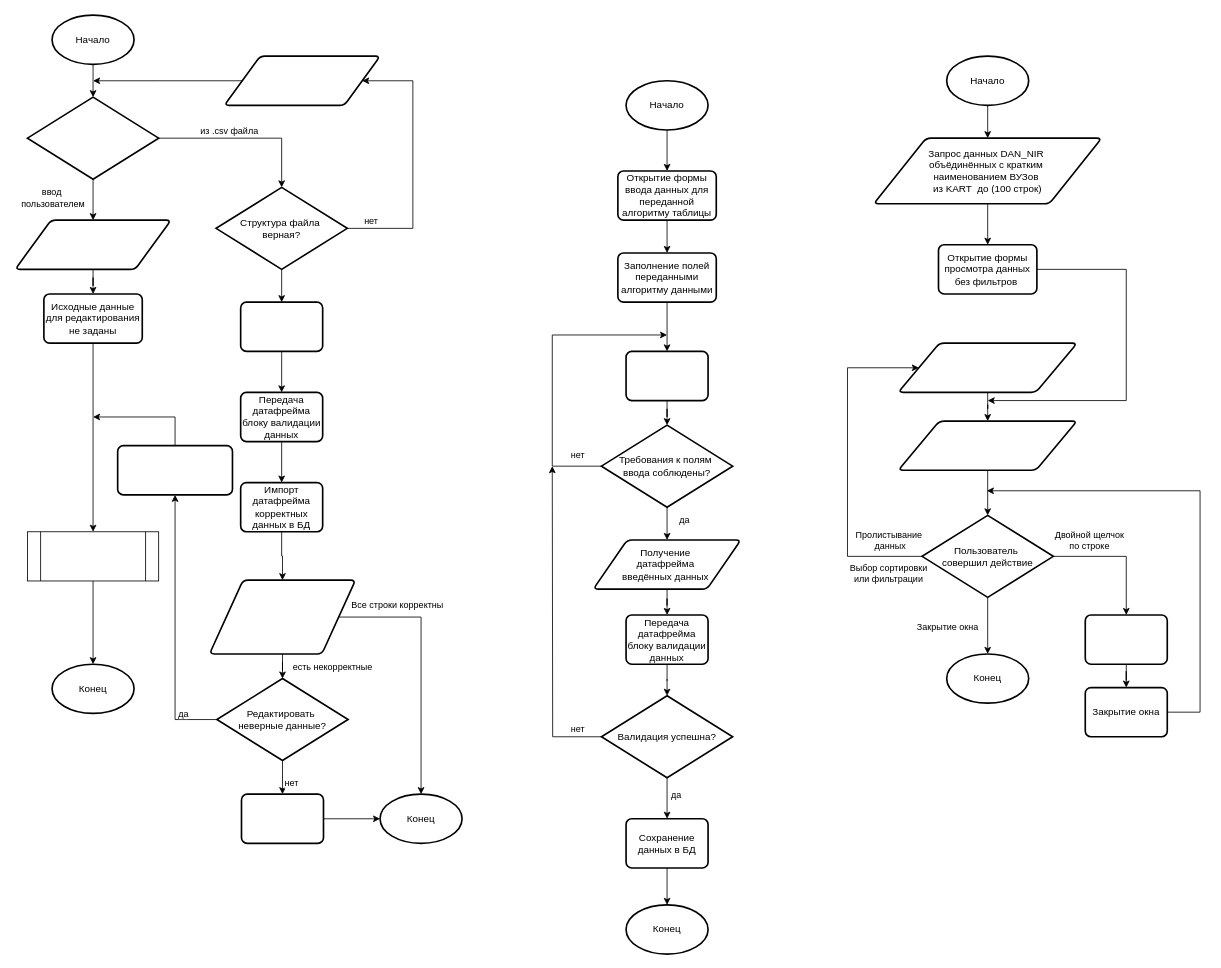
The diagram is 1221 pixels wide and 968 high, and some of its shapes have lost their labels. The shapes that lost their labels are listed below. From the top down, each one's centre as x and y in pixels, then its label:
(x=301, y=80): Таблица не соответствует формату из инструкций
(x=92, y=138): Какой способ импортирования данных?
(x=92, y=244): Выбор таблицы DAN_NIR или KART
(x=281, y=326): Формирование датафрейма
(x=666, y=375): Нажатие "сохранить"
(x=987, y=367): Получение нового массива данных с учётом фильтров
(x=987, y=445): Отображение массива данных в виде таблицы
(x=174, y=469): Исходные данные для редактирования: некорректные строки
(x=93, y=556): Редактирование исходных данных для выбранной таблицы
(x=282, y=616): Вывод количества импортированных и некорректных строк
(x=1126, y=639): Открытие окна с информацией о ВУЗе из KART
(x=282, y=818): Некорректные строки отбрасываются
